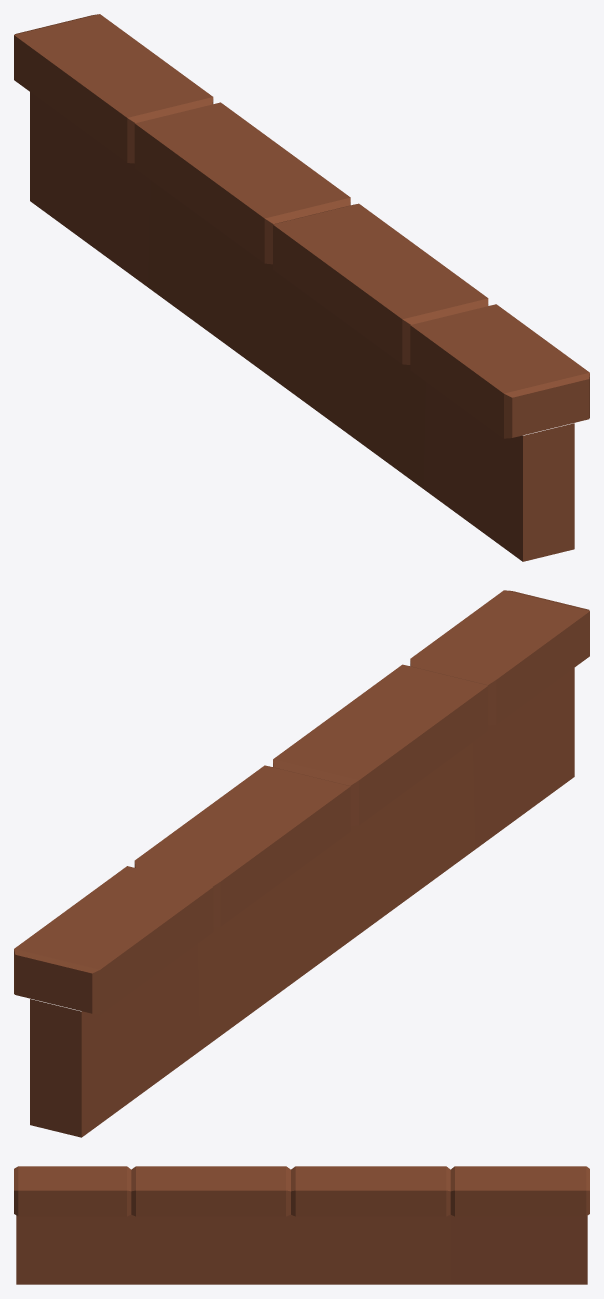
File: wall_pedstrian_straignt_1.glb
The picture shows the model from 3 angles, top to bottom: view 1: azimuth 30°, elevation 25°; view 2: azimuth 150°, elevation 25°; view 3: azimuth 270°, elevation 25°; orthographic projection. The views are drawn at different scales.
Visible parts, largest first — view 1: wall_pedestrian_straight_1; view 2: wall_pedestrian_straight_1; view 3: wall_pedestrian_straight_1.
Boxes of the visible parts, x1,y1,x2,y2 form: wall_pedestrian_straight_1: [14, 14, 589, 561]; wall_pedestrian_straight_1: [14, 590, 589, 1137]; wall_pedestrian_straight_1: [14, 1166, 589, 1284].
Bounding box in the file's own units: 1 × 1.9 × 10.
1 material, 1 textured.
